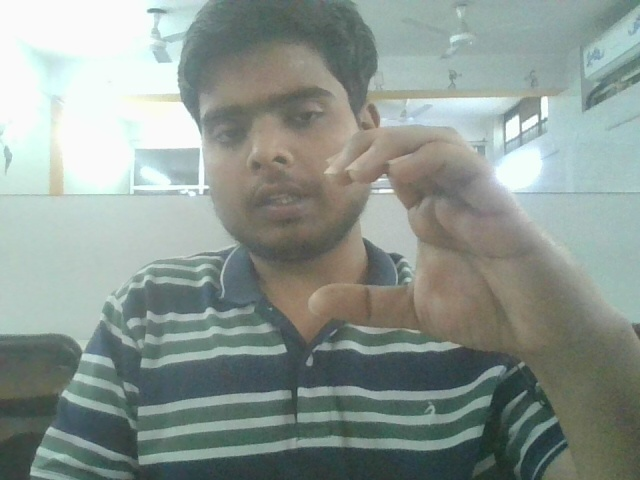No: (299, 114, 583, 359)
